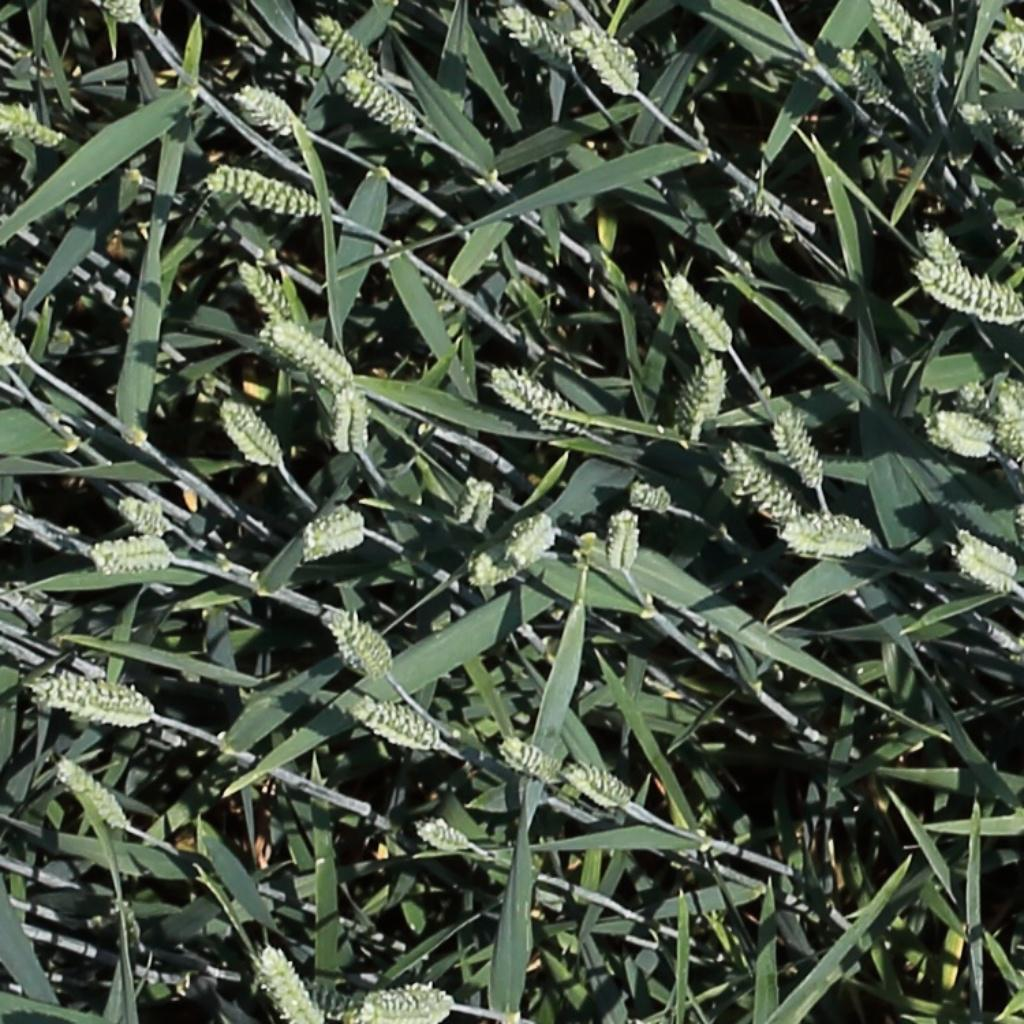0-0: (25, 676, 162, 731), (723, 438, 802, 524), (492, 366, 586, 432), (53, 757, 131, 835), (916, 263, 1021, 319), (667, 270, 738, 352), (324, 986, 471, 1024), (569, 21, 641, 98), (274, 322, 354, 387), (210, 166, 323, 212), (219, 395, 288, 469), (256, 942, 319, 1022), (312, 12, 383, 81), (501, 5, 576, 70), (327, 608, 391, 684), (237, 253, 297, 334), (775, 402, 828, 491), (342, 69, 417, 131), (353, 701, 443, 752), (835, 43, 898, 109), (785, 514, 875, 558), (92, 530, 175, 577), (922, 410, 998, 461), (685, 350, 726, 442), (919, 19, 962, 98), (506, 512, 559, 574), (955, 541, 1020, 588), (562, 768, 633, 809), (300, 518, 365, 561), (959, 501, 1021, 546), (992, 5, 1024, 88), (993, 380, 1022, 468), (922, 219, 966, 277), (301, 509, 363, 550), (0, 105, 64, 144), (501, 741, 563, 780), (238, 86, 300, 125), (118, 496, 170, 539), (341, 378, 368, 458), (610, 503, 638, 578), (334, 376, 359, 460), (871, 0, 915, 46), (952, 386, 1018, 416), (453, 471, 487, 529), (991, 101, 1024, 157), (415, 823, 475, 851), (896, 46, 920, 97), (630, 483, 674, 510), (0, 292, 15, 367), (105, 1, 144, 28)
